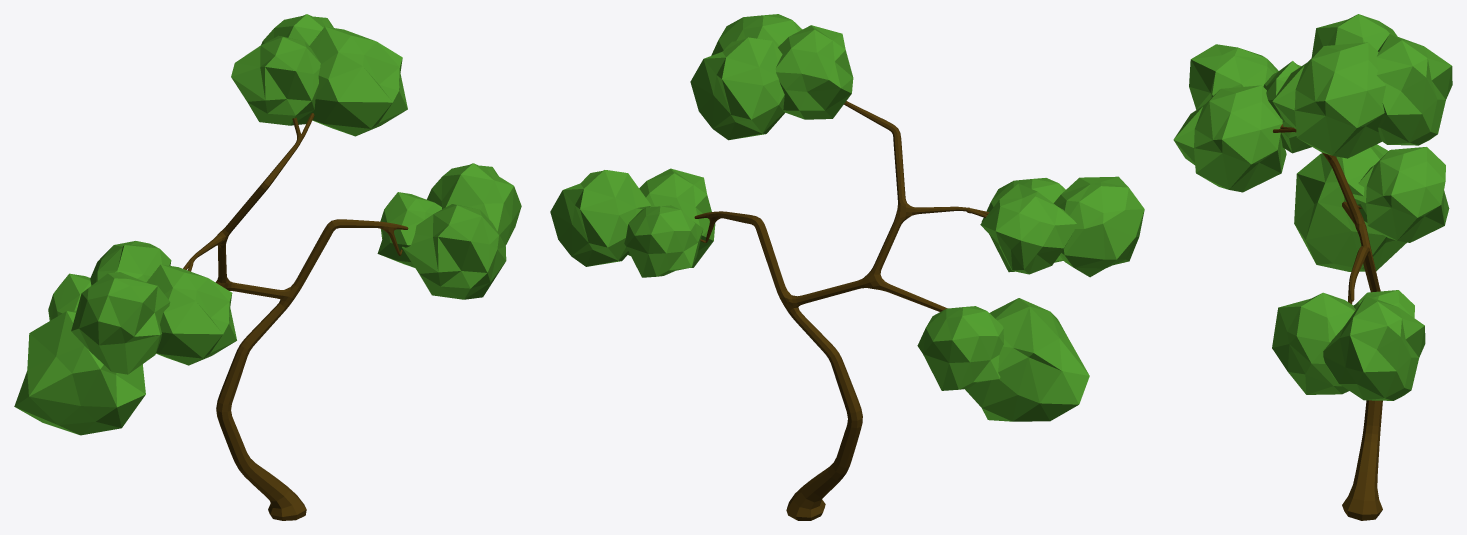
Rendered from arvore2.fbx.
The picture shows the model from 3 angles, left to right: view 1: azimuth 30°, elevation 25°; view 2: azimuth 150°, elevation 25°; view 3: azimuth 270°, elevation 25°; orthographic projection. The views are drawn at different scales.
Parts seen in each view (by area): view 1: Icosphere.002, Plane; view 2: Icosphere.002, Plane; view 3: Icosphere.002, Plane.
Boxes of the visible parts, left/top/right/bottom form: Icosphere.002: left=14, top=14, right=521, bottom=435; Plane: left=183, top=113, right=408, bottom=520; Icosphere.002: left=550, top=14, right=1144, bottom=421; Plane: left=694, top=101, right=989, bottom=520; Icosphere.002: left=1173, top=14, right=1452, bottom=400; Plane: left=1273, top=124, right=1382, bottom=520.
Size of the model in its own units: 1949 by 1764 by 896.
